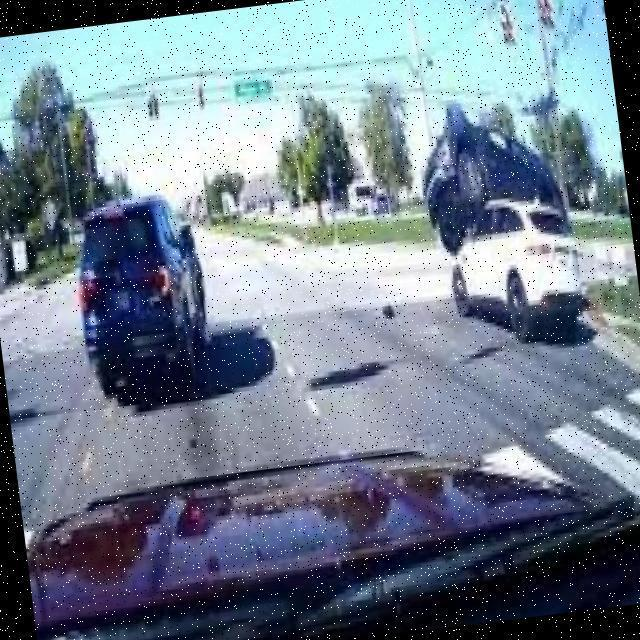accident: (397, 85, 623, 352)
